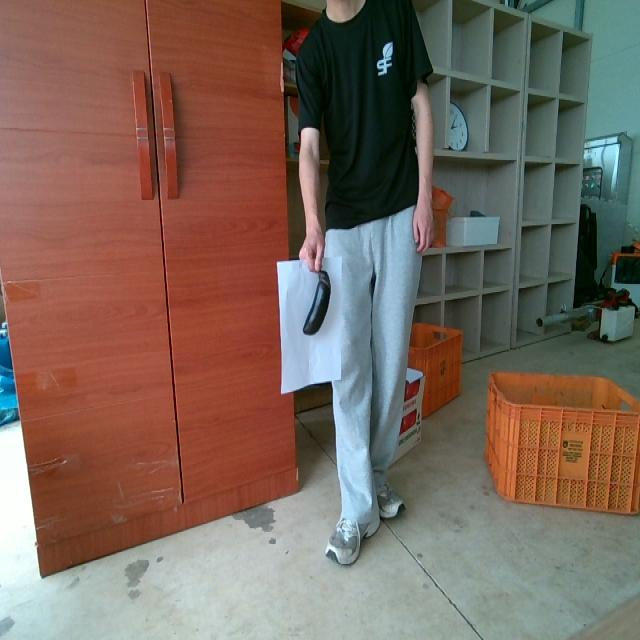Egg plant: (303, 271, 330, 333)
